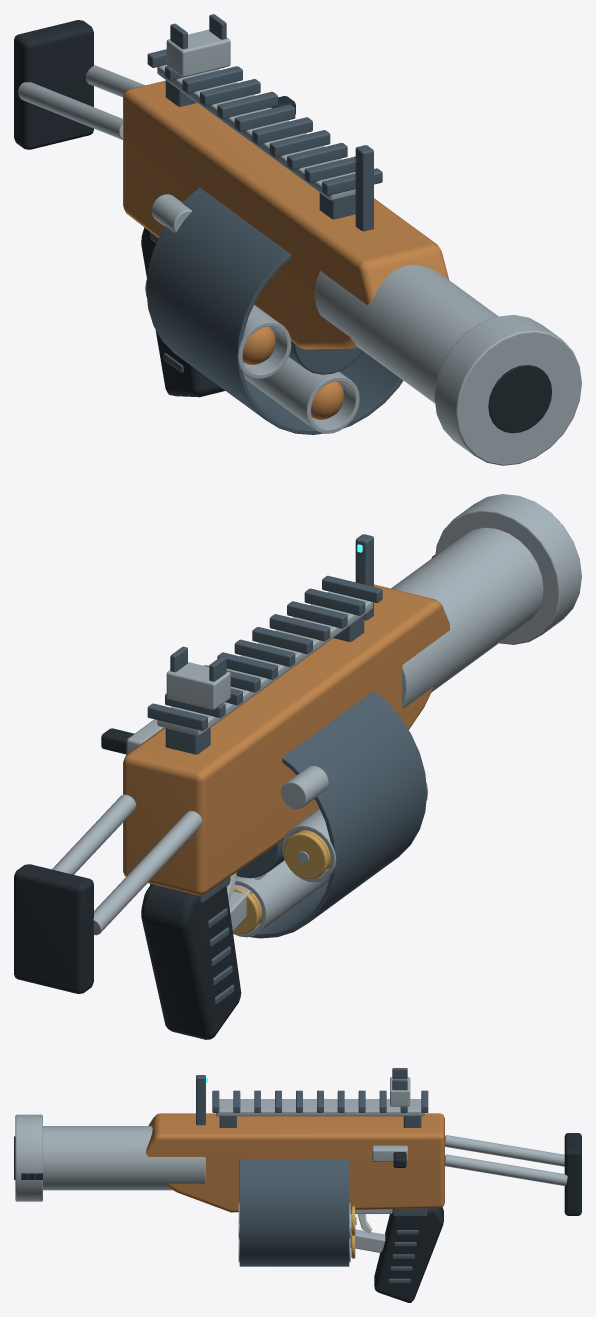
Rendered from weapon_09.glb.
The picture shows the model from 3 angles, top to bottom: view 1: azimuth 30°, elevation 25°; view 2: azimuth 150°, elevation 25°; view 3: azimuth 270°, elevation 25°; orthographic projection. The views are drawn at different scales.
Parts seen in each view (by area): view 1: receiver / Titanium, receiver / Ochre armour, magazine / Cerakote midnight, receiver / Cerakote midnight, receiver / Elastomer, chamber_03 / Titanium, pistol_grip / Elastomer, chamber_04 / Titanium, round_04 / Ochre armour, round_03 / Ochre armour; view 2: receiver / Ochre armour, receiver / Titanium, magazine / Cerakote midnight, receiver / Cerakote midnight, pistol_grip / Elastomer, receiver / Elastomer, chamber_03 / Titanium, round_04 / Copper, pistol_grip / Cerakote midnight, chamber_04 / Titanium, round_03 / Copper; view 3: receiver / Ochre armour, receiver / Titanium, magazine / Cerakote midnight, pistol_grip / Elastomer, receiver / Cerakote midnight, receiver / Elastomer, pistol_grip / Cerakote midnight, charging_handle / Titanium.
Part boxes in pixels (x1,y1,x2,y2): receiver / Titanium: (18,29,581,465); receiver / Ochre armour: (123,80,448,349); magazine / Cerakote midnight: (146,187,403,434); receiver / Cerakote midnight: (147,14,382,231); receiver / Elastomer: (14,20,552,433); chamber_03 / Titanium: (243,357,359,433); pistol_grip / Elastomer: (141,227,225,397); chamber_04 / Titanium: (145,278,291,378); round_04 / Ochre armour: (242,326,275,364); round_03 / Ochre armour: (311,381,344,419); receiver / Ochre armour: (123,584,449,895); receiver / Titanium: (52,494,581,935); magazine / Cerakote midnight: (236,691,426,938); receiver / Cerakote midnight: (147,534,382,754); pistol_grip / Elastomer: (141,884,241,1039); receiver / Elastomer: (14,554,435,993); chamber_03 / Titanium: (233,860,330,937); round_04 / Copper: (283,830,330,879); pistol_grip / Cerakote midnight: (150,876,234,1004); chamber_04 / Titanium: (282,783,428,882); round_03 / Copper: (233,887,262,934); receiver / Ochre armour: (146,1113,444,1212); receiver / Titanium: (15,1077,567,1252); magazine / Cerakote midnight: (239,1159,349,1266); pistol_grip / Elastomer: (374,1207,443,1302); receiver / Cerakote midnight: (196,1068,428,1127); receiver / Elastomer: (14,1133,581,1215); pistol_grip / Cerakote midnight: (388,1208,427,1283); charging_handle / Titanium: (372,1145,407,1161).
Bounding box in the file's own units: 0.264 × 0.4951 × 1.14.
